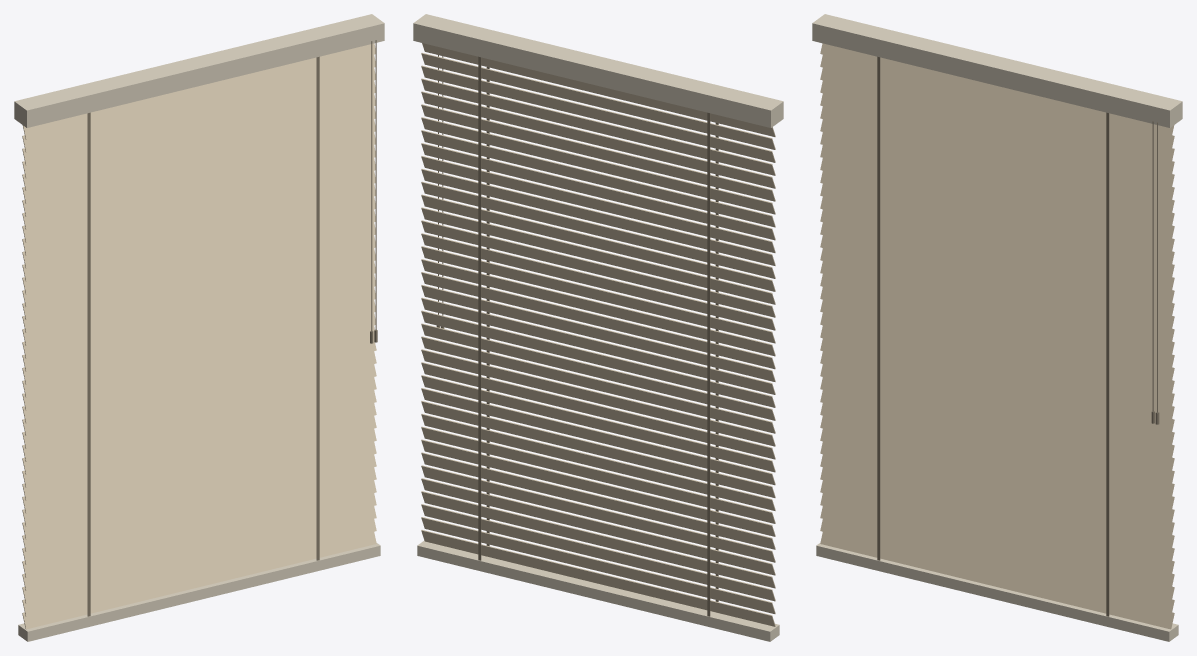
Rendered from Blind_B_Tall.fbx.
3 renders of one model, left to right at view 1: azimuth 30°, elevation 25°; view 2: azimuth 150°, elevation 25°; view 3: azimuth 330°, elevation 25°, orthographic.
Visible parts, largest first — view 1: Blind_B_Tall_Slats, Blind_B_Tall_Rails, Blind_B_Tall_Tapes_and_Pullcords; view 2: Blind_B_Tall_Slats, Blind_B_Tall_Rails, Blind_B_Tall_Tapes_and_Pullcords; view 3: Blind_B_Tall_Slats, Blind_B_Tall_Rails, Blind_B_Tall_Tapes_and_Pullcords.
Boxes of the visible parts, box(x1,y1,x2,y2) form: Blind_B_Tall_Slats: box(22, 43, 376, 629); Blind_B_Tall_Rails: box(14, 14, 384, 641); Blind_B_Tall_Tapes_and_Pullcords: box(87, 40, 377, 616); Blind_B_Tall_Slats: box(421, 43, 775, 626); Blind_B_Tall_Rails: box(413, 14, 783, 641); Blind_B_Tall_Tapes_and_Pullcords: box(436, 55, 718, 616); Blind_B_Tall_Slats: box(820, 43, 1174, 629); Blind_B_Tall_Rails: box(812, 14, 1182, 641); Blind_B_Tall_Tapes_and_Pullcords: box(877, 56, 1159, 616).
Size of the model in its own units: 117 by 167 by 8.78.
